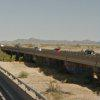Bridge: (5, 39, 99, 78)
